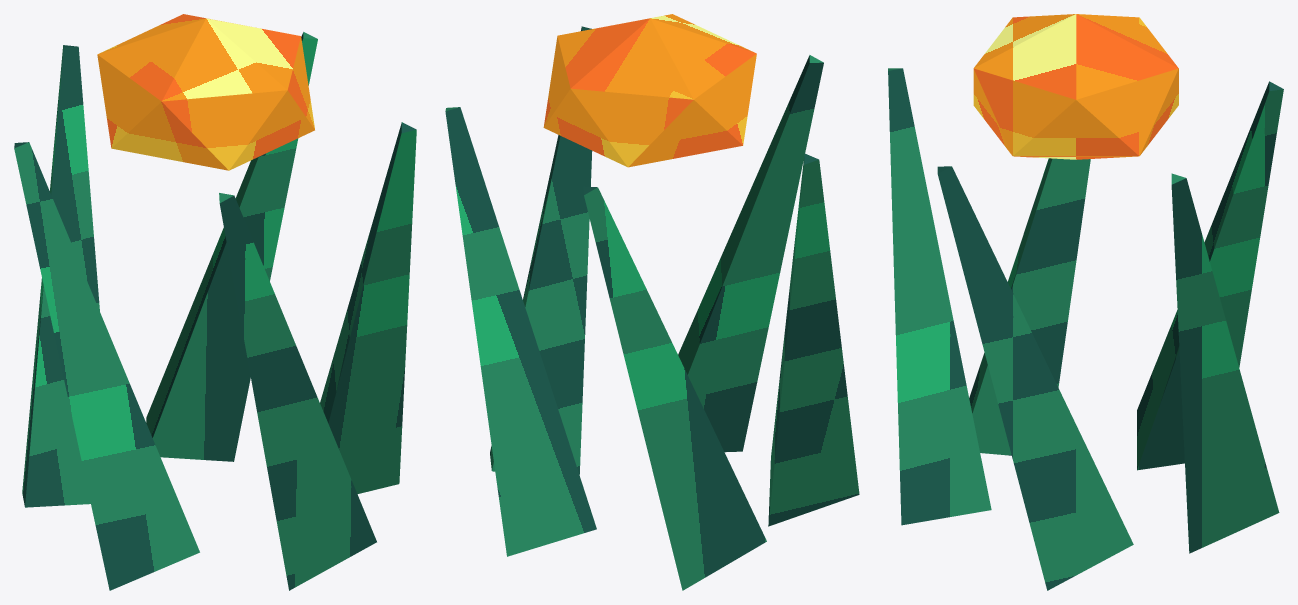
Rendered from a29_flor_carnivora_gigante.glb.
3 views of the same model, side by side, from view 1: azimuth 30°, elevation 25°; view 2: azimuth 150°, elevation 25°; view 3: azimuth 270°, elevation 25° (orthographic). The views are drawn at different scales.
Visible parts, largest first — view 1: a29_flor_carnivora_gigante; view 2: a29_flor_carnivora_gigante; view 3: a29_flor_carnivora_gigante.
Boxes of the visible parts, <box> form: a29_flor_carnivora_gigante: <box>14,14,416,590</box>; a29_flor_carnivora_gigante: <box>445,14,859,590</box>; a29_flor_carnivora_gigante: <box>888,14,1283,590</box>.
Size of the model in its own units: 0.4083 by 0.5473 by 0.3937.
Materials: 2 (2 with a texture image).
